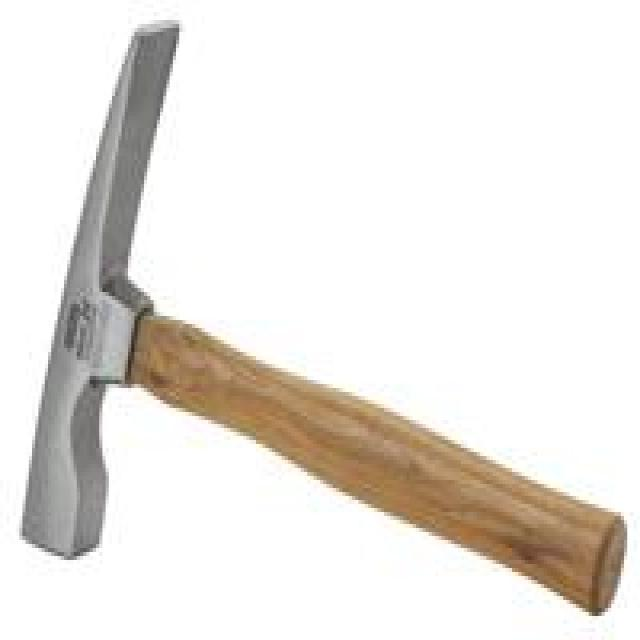hammer: (8, 5, 632, 622)
